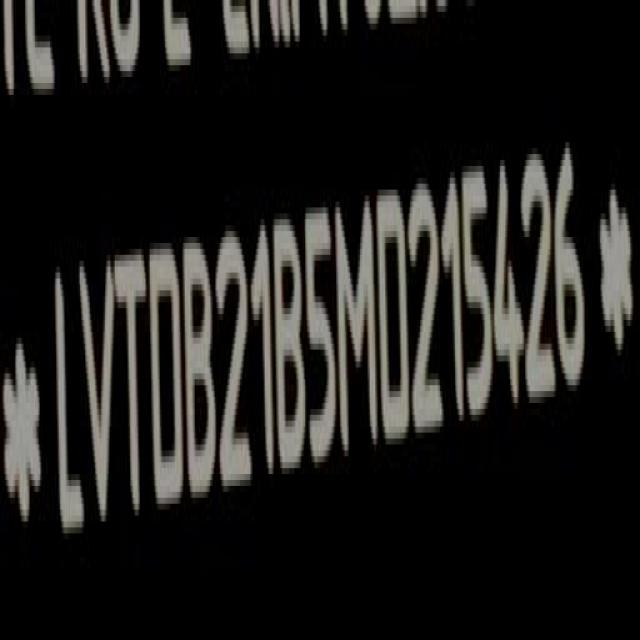1: (441, 166, 462, 442), (256, 225, 275, 488)
2: (218, 233, 253, 501), (524, 144, 555, 416), (412, 185, 444, 448)
4: (494, 152, 526, 424)
5: (305, 198, 339, 471), (464, 158, 494, 433)
6: (553, 143, 587, 397)
B: (188, 239, 220, 512), (276, 212, 305, 486)
D: (149, 242, 184, 521), (381, 182, 414, 460)
L: (50, 262, 79, 545)
M: (339, 193, 379, 466)
T: (117, 243, 148, 534)
V: (78, 254, 118, 542)
